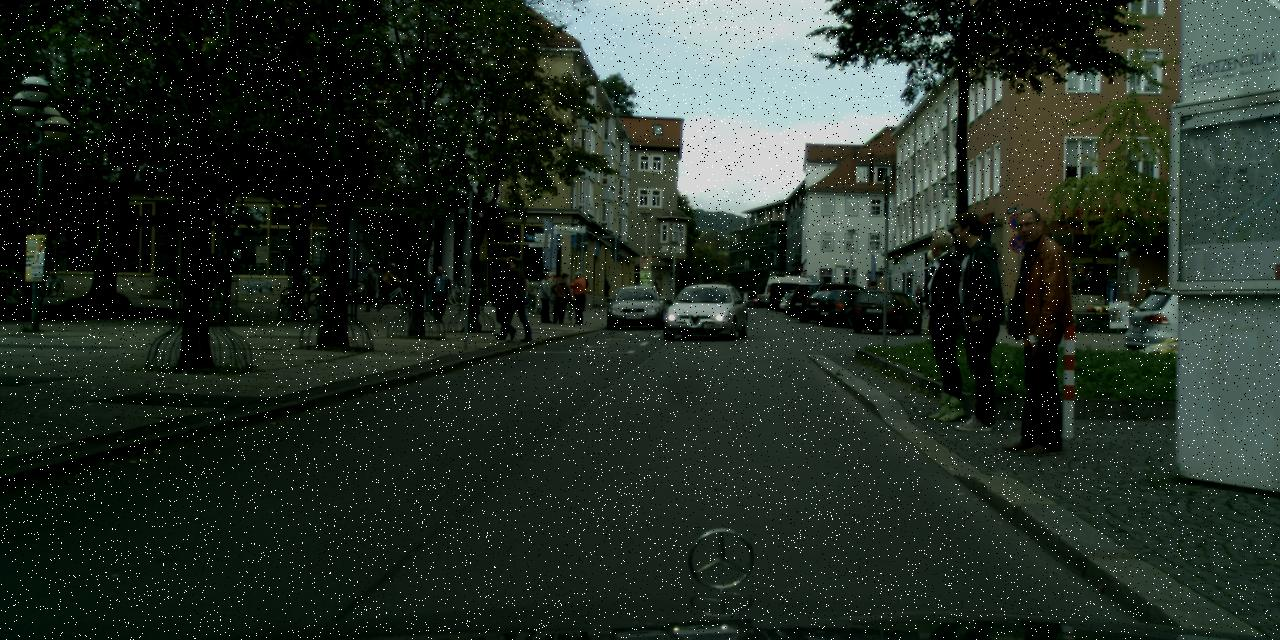ped: (985, 208, 1086, 454), (933, 210, 1023, 432), (907, 230, 985, 420), (495, 256, 529, 338), (489, 259, 522, 339), (427, 265, 450, 322), (1140, 281, 1162, 335), (568, 270, 588, 324), (551, 272, 571, 322), (562, 275, 582, 323), (536, 272, 555, 322), (550, 273, 568, 318), (362, 266, 380, 311), (434, 271, 451, 314), (381, 263, 398, 305), (299, 264, 311, 295), (912, 284, 924, 314), (600, 272, 611, 300)
